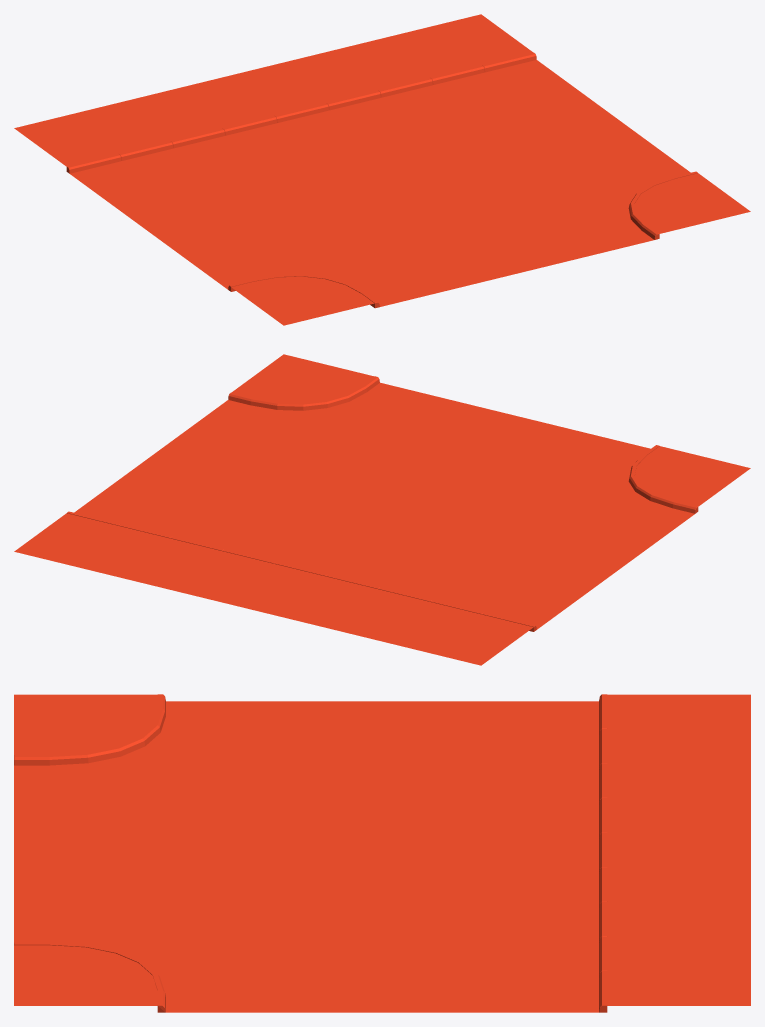
The model's file is SM_Road_T_10x10_City.fbx.
The picture shows the model from 3 angles, top to bottom: view 1: azimuth 30°, elevation 25°; view 2: azimuth 150°, elevation 25°; view 3: azimuth 270°, elevation 25°; orthographic projection. The views are drawn at different scales.
Visible parts, largest first — view 1: SM_Road_T_10x10_City; view 2: SM_Road_T_10x10_City; view 3: SM_Road_T_10x10_City.
Boxes of the visible parts, x1,y1,x2,y2 form: SM_Road_T_10x10_City: (14, 14, 750, 325); SM_Road_T_10x10_City: (14, 354, 750, 665); SM_Road_T_10x10_City: (14, 694, 750, 1012).
Bounding box in the file's own units: 10 × 0.1084 × 10.
